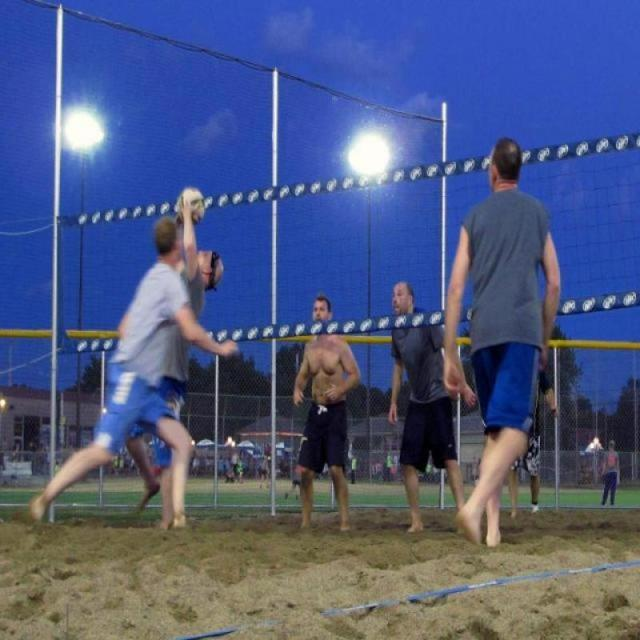volleyball: (175, 183, 206, 228)
